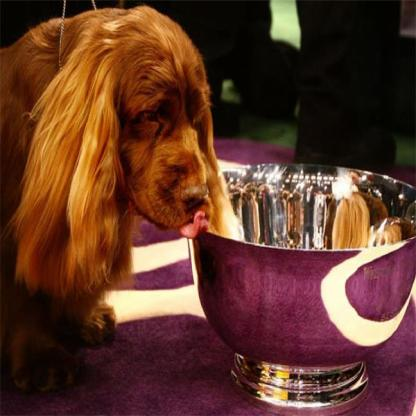Sussex_spaniel: (1, 6, 243, 392)
